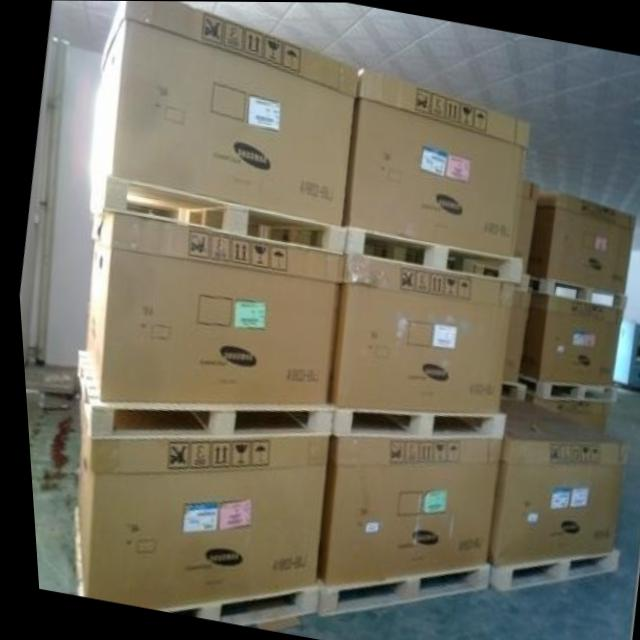box: (87, 1, 360, 222), (71, 405, 322, 609), (81, 212, 339, 403), (338, 66, 527, 258), (319, 257, 510, 412), (309, 436, 493, 583), (478, 398, 622, 565), (522, 190, 632, 292), (513, 290, 619, 384)
